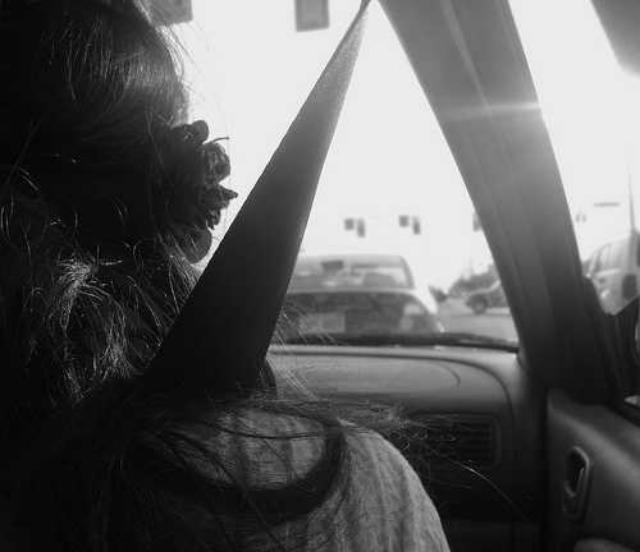Seatbelt: (149, 1, 375, 405)
